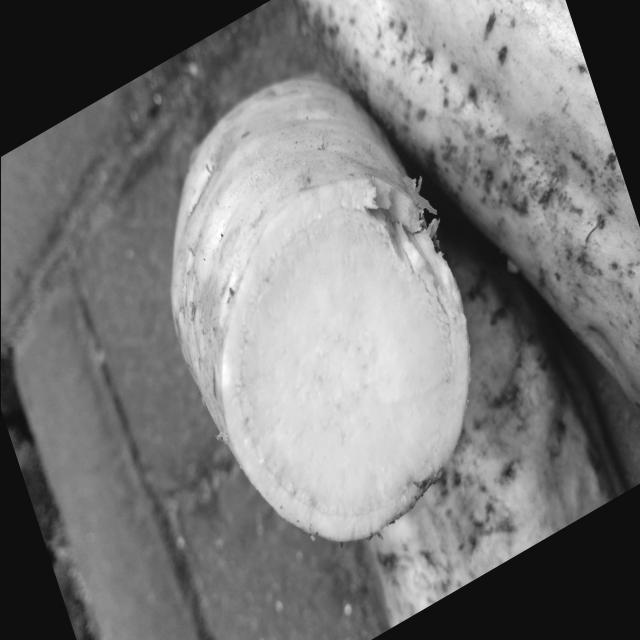Healthy Sweet Potato: (221, 178, 469, 540)
